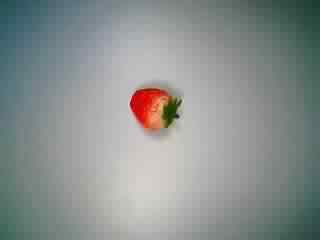strawberry: (122, 76, 190, 140)
